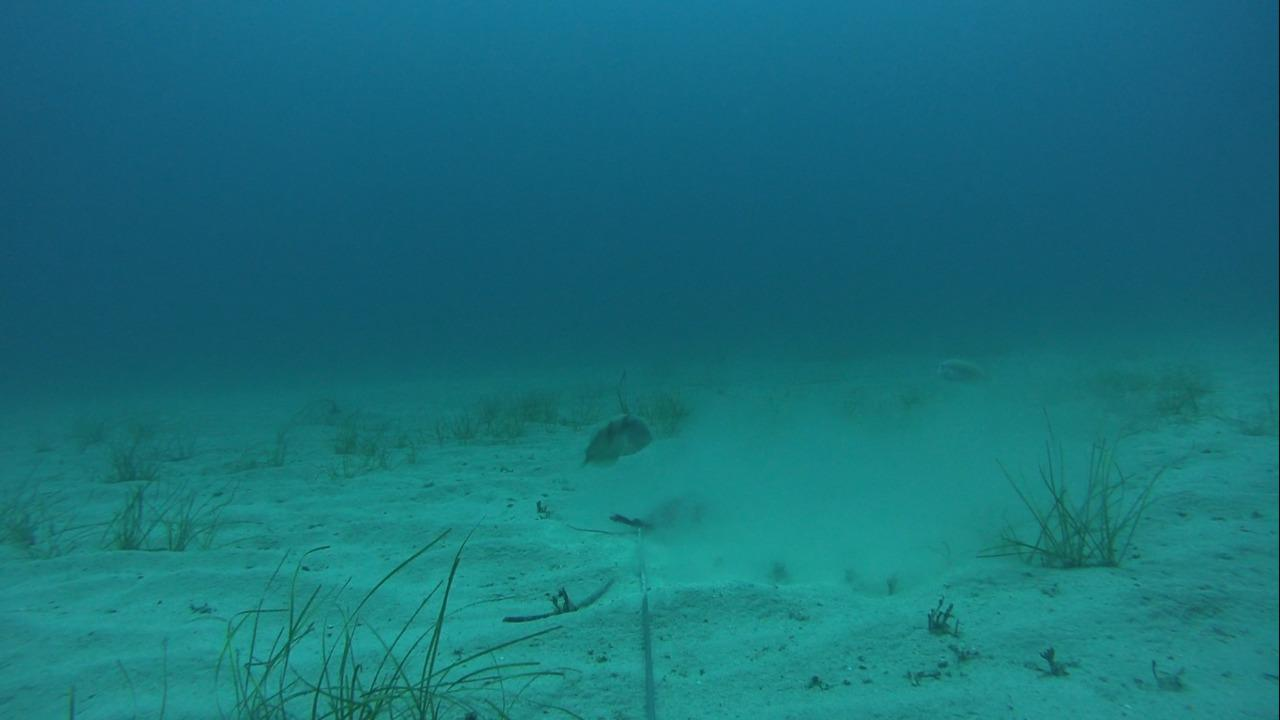raor: (573, 410, 658, 468), (930, 354, 990, 386)
